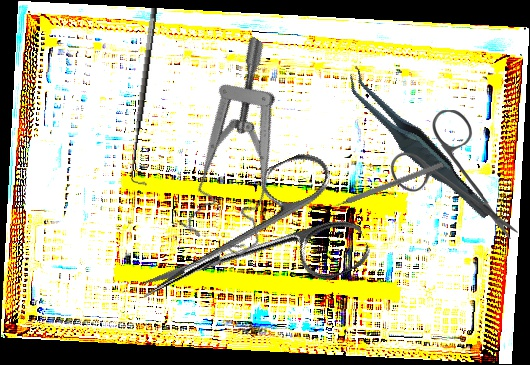Hook Surgical: (123, 7, 172, 186), (324, 161, 444, 213)
Iris Scissors: (116, 143, 375, 352), (388, 108, 521, 240)
Speculum: (142, 34, 352, 267)
Tissue Forceps: (343, 48, 494, 242)
